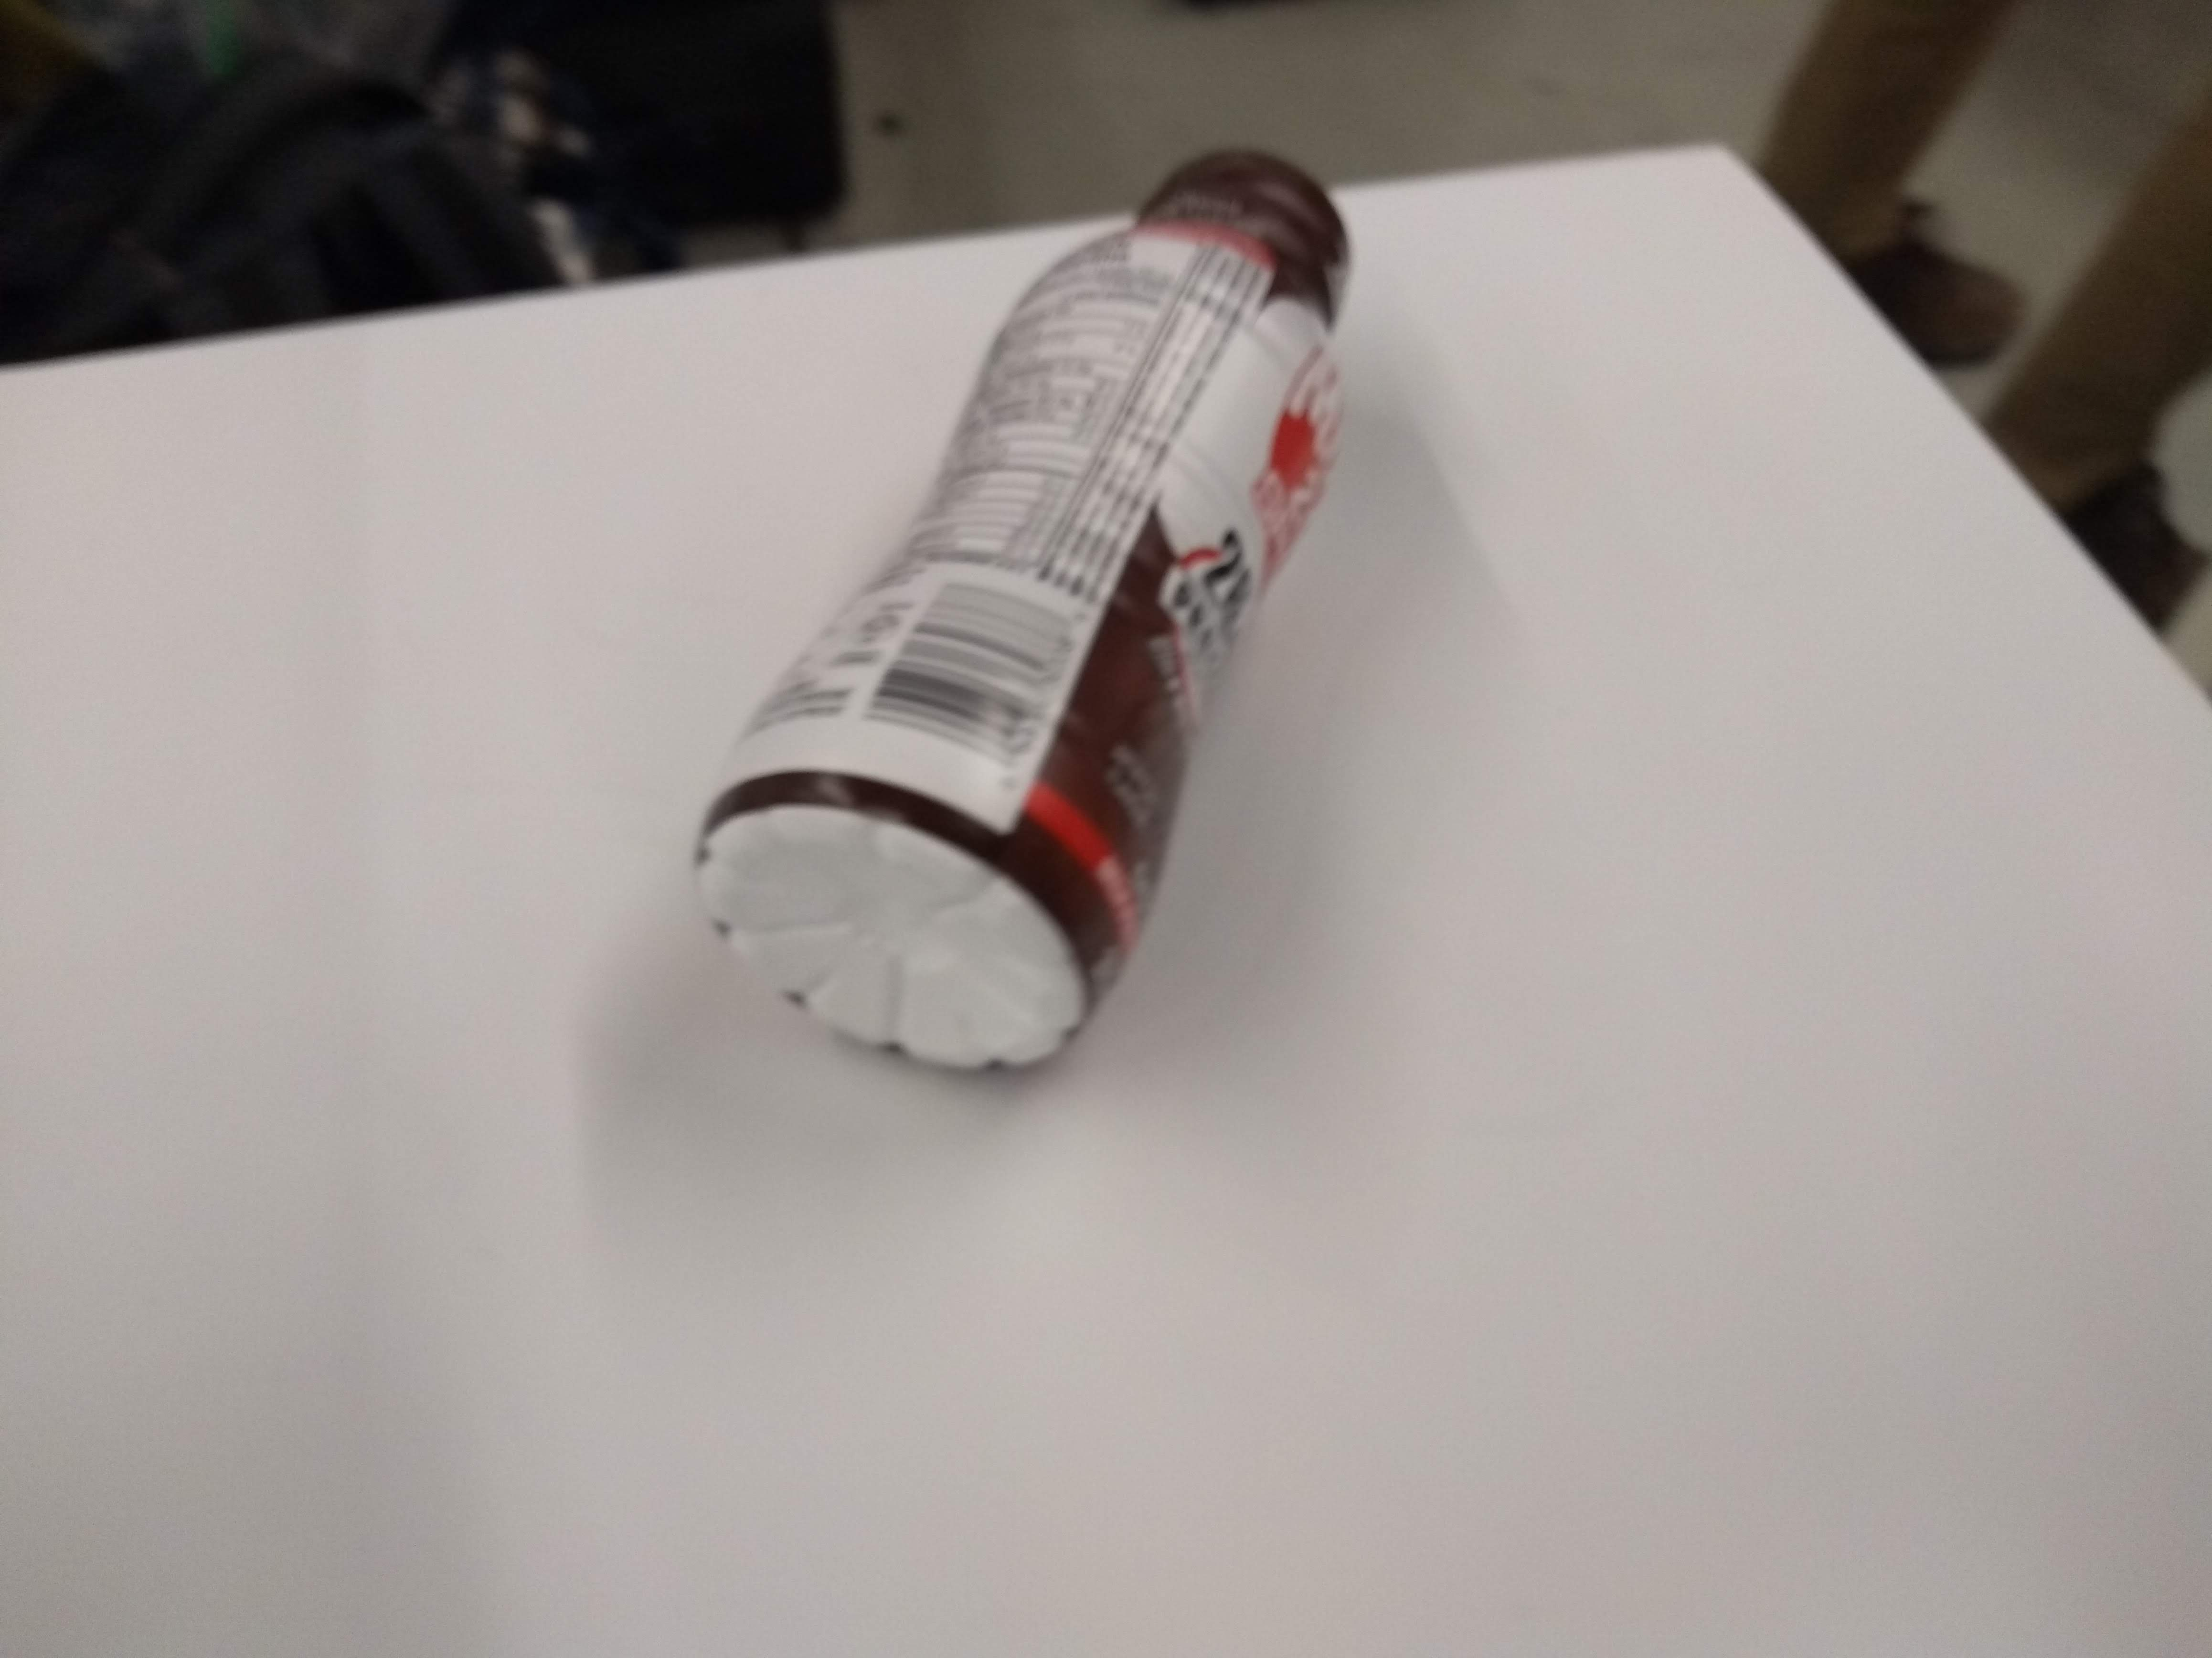chocolate_drink: (674, 127, 1362, 1106)
